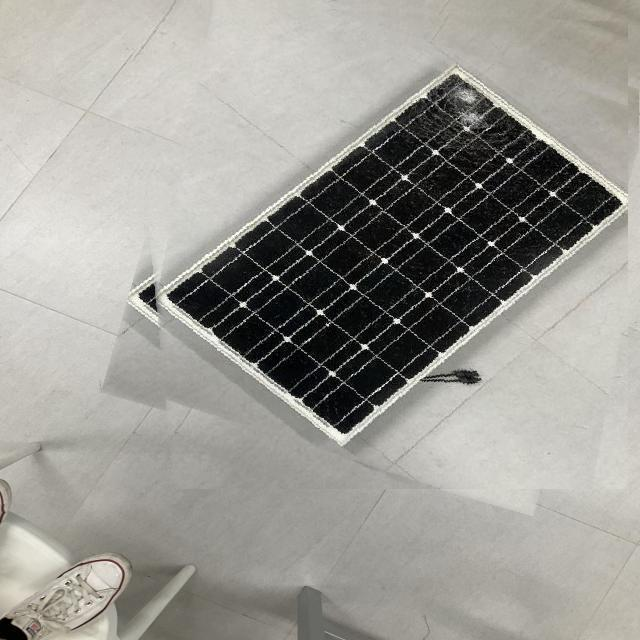Structural Damage: (397, 73, 522, 168)
